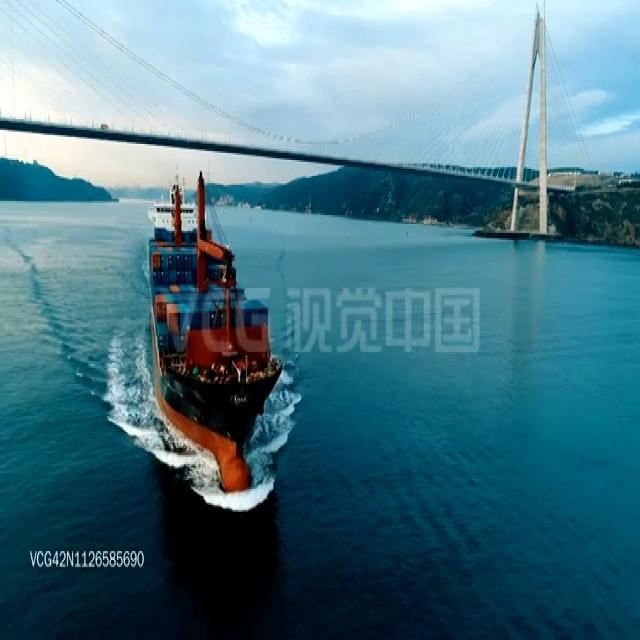cargoship: (141, 167, 286, 498)
